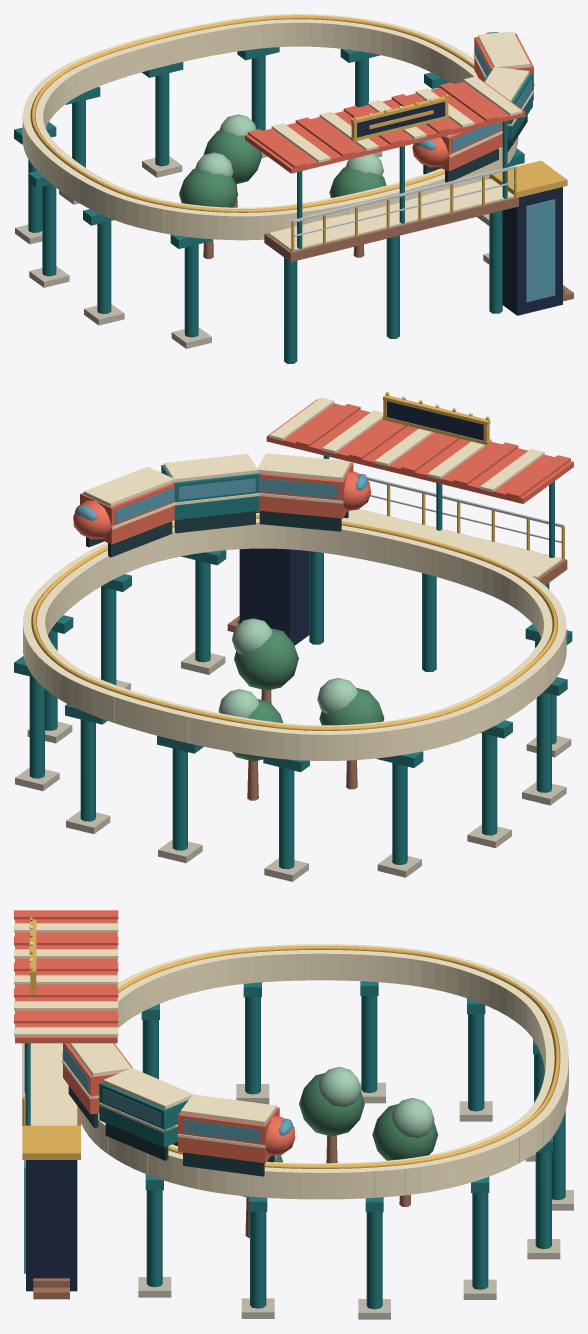
Rendered from ride_monorail.glb.
3 renders of one model, top to bottom at view 1: azimuth 30°, elevation 25°; view 2: azimuth 150°, elevation 25°; view 3: azimuth 270°, elevation 25°, orthographic. The views are drawn at different scales.
Parts seen in each view (by area): view 1: ride_monorail; view 2: ride_monorail; view 3: ride_monorail.
Boxes of the visible parts, x1,y1,x2,y2 form: ride_monorail: [14, 14, 573, 363]; ride_monorail: [14, 392, 573, 881]; ride_monorail: [14, 910, 573, 1319].
Size of the model in its own units: 15.35 by 7.9 by 15.28.
